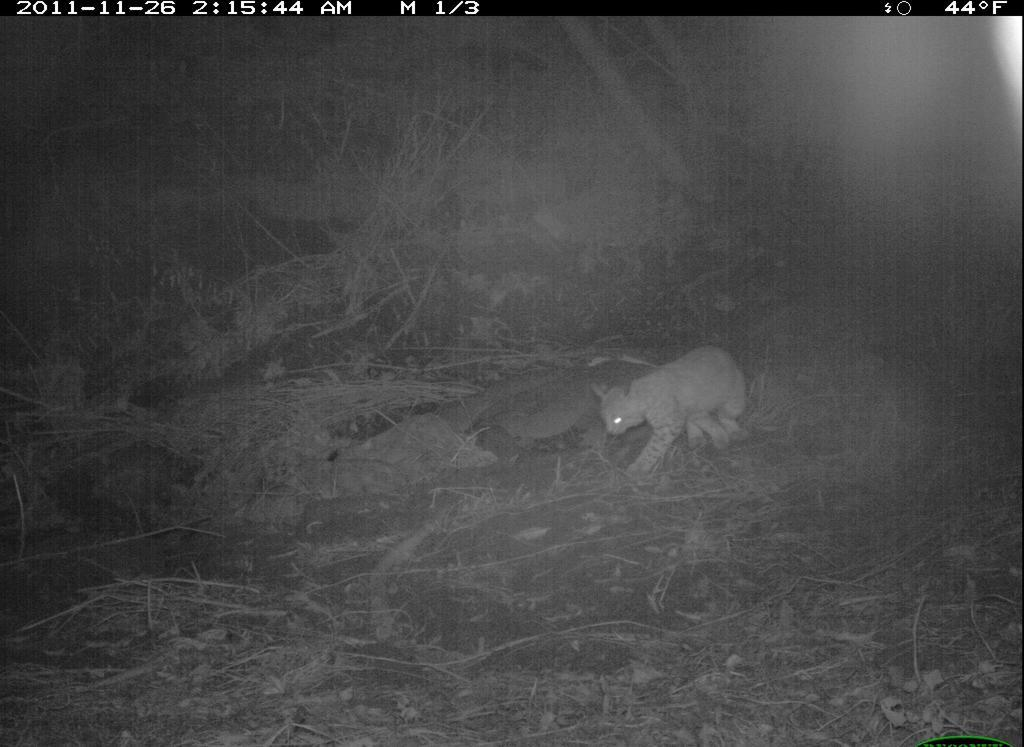bobcat: (589, 340, 760, 486)
